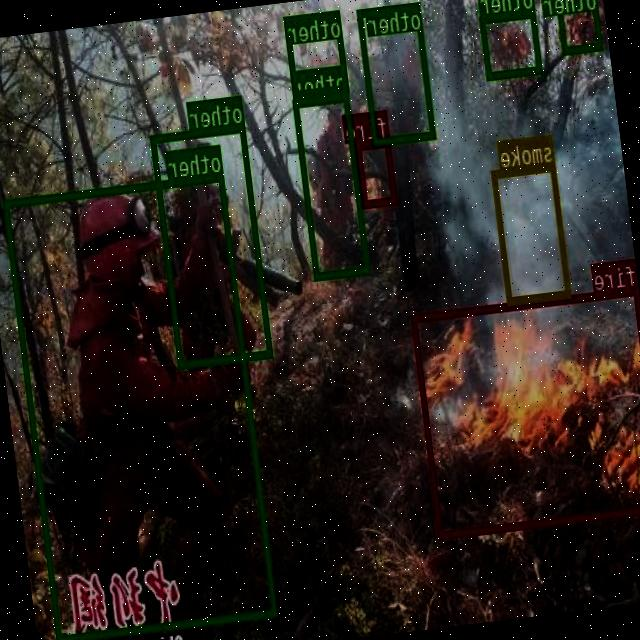fire: (412, 284, 640, 538), (356, 136, 399, 207)
smoke: (492, 161, 572, 304)
